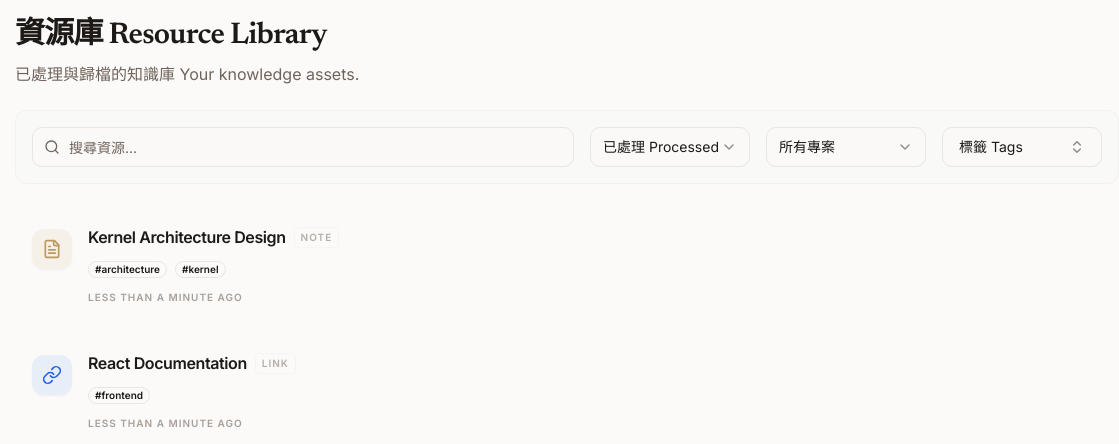
Test: ResourceLibraryPage › filters resources by search text
Note: Search for "Kernel"
Type "Kernel" into the field with placeholder "搜尋資源..." at (303, 147), box x1=32 y1=127 x2=574 y2=167
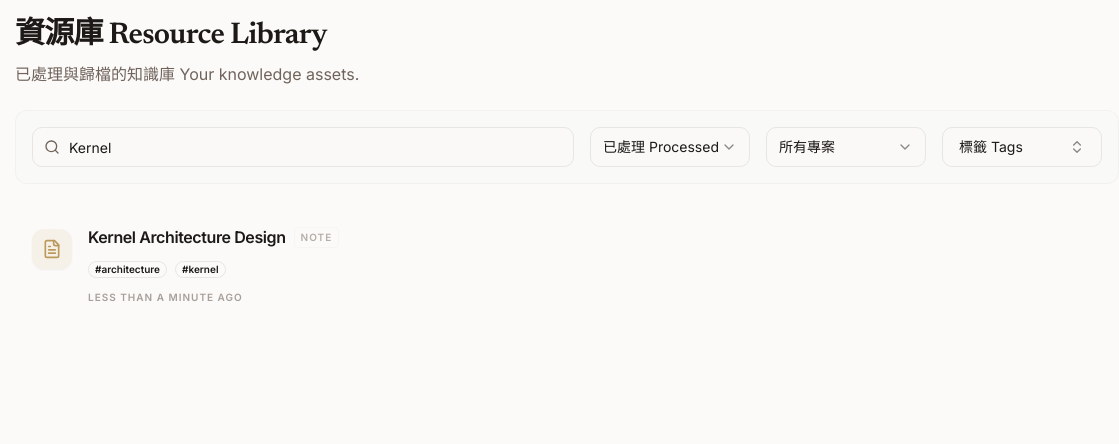
Expected: the heading "Kernel Architecture Design" is shown, x1=88 y1=225 x2=286 y2=249
Now the heading "React Documentation" is gone
